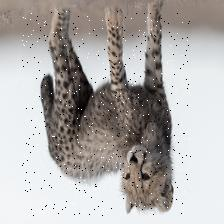Cheetha: (21, 10, 190, 215)
